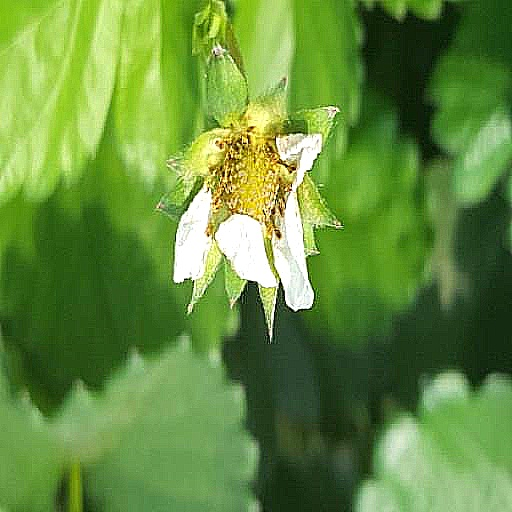Blossom Blight: (213, 272, 308, 390)
